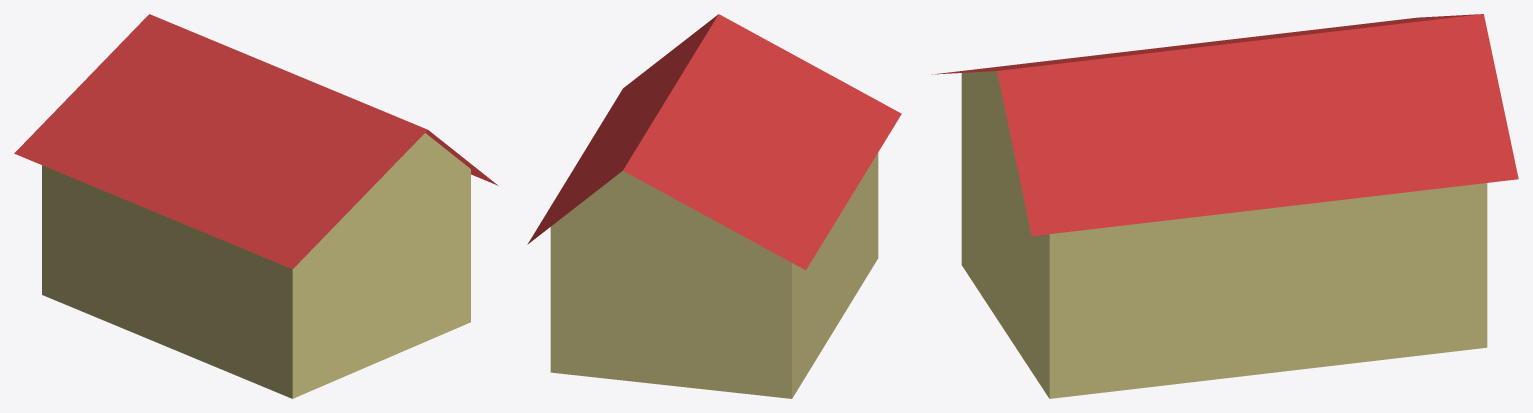
3 renders of one model, left to right at view 1: azimuth 30°, elevation 25°; view 2: azimuth 150°, elevation 25°; view 3: azimuth 270°, elevation 25°, orthographic. The views are drawn at different scales.
Size of the model in its own units: 14.8 by 17.37 by 9.38.
